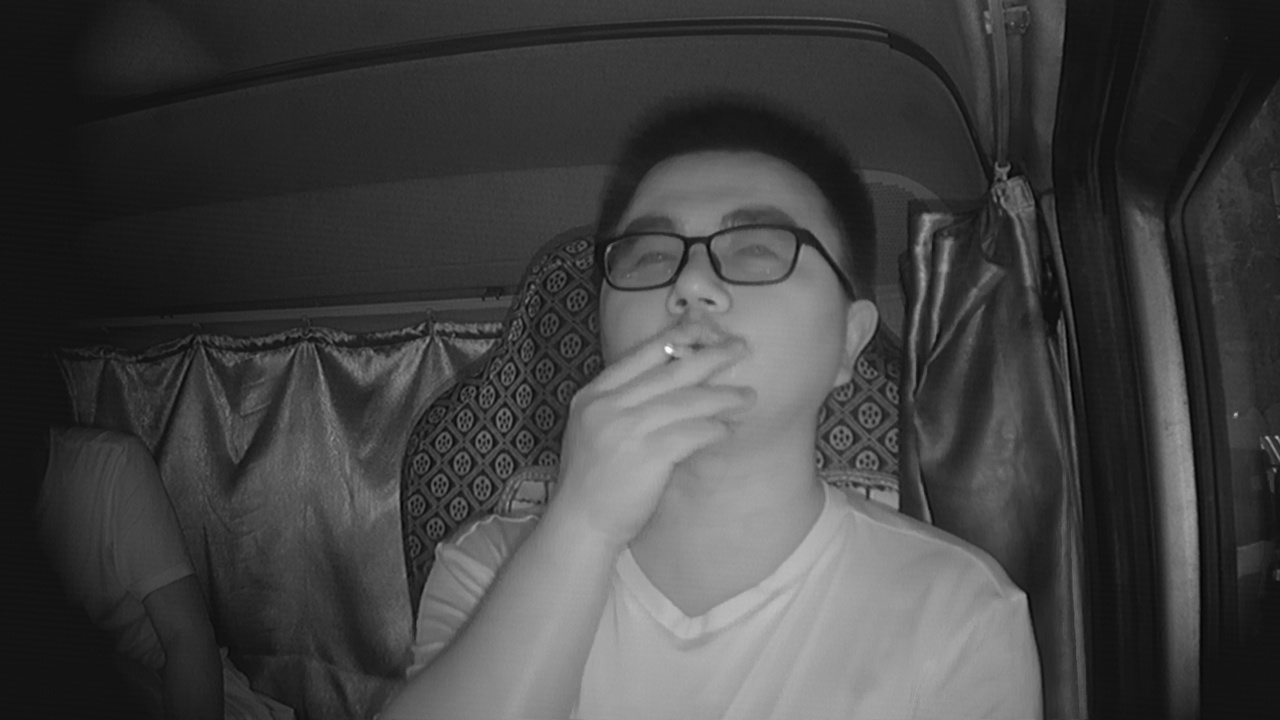hand: (554, 316, 751, 495)
